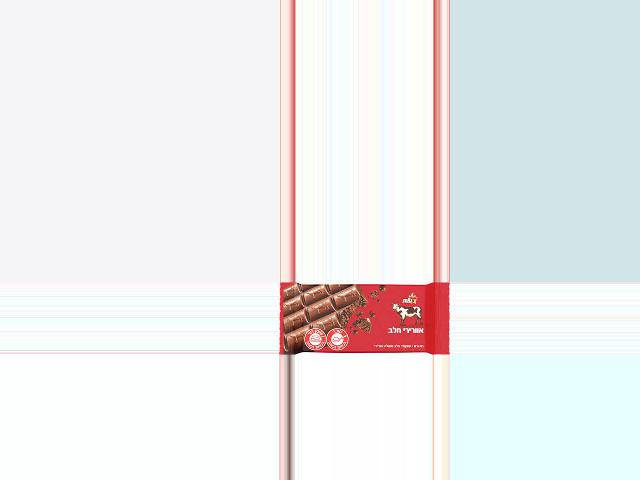chocolate: (281, 283, 450, 354)
